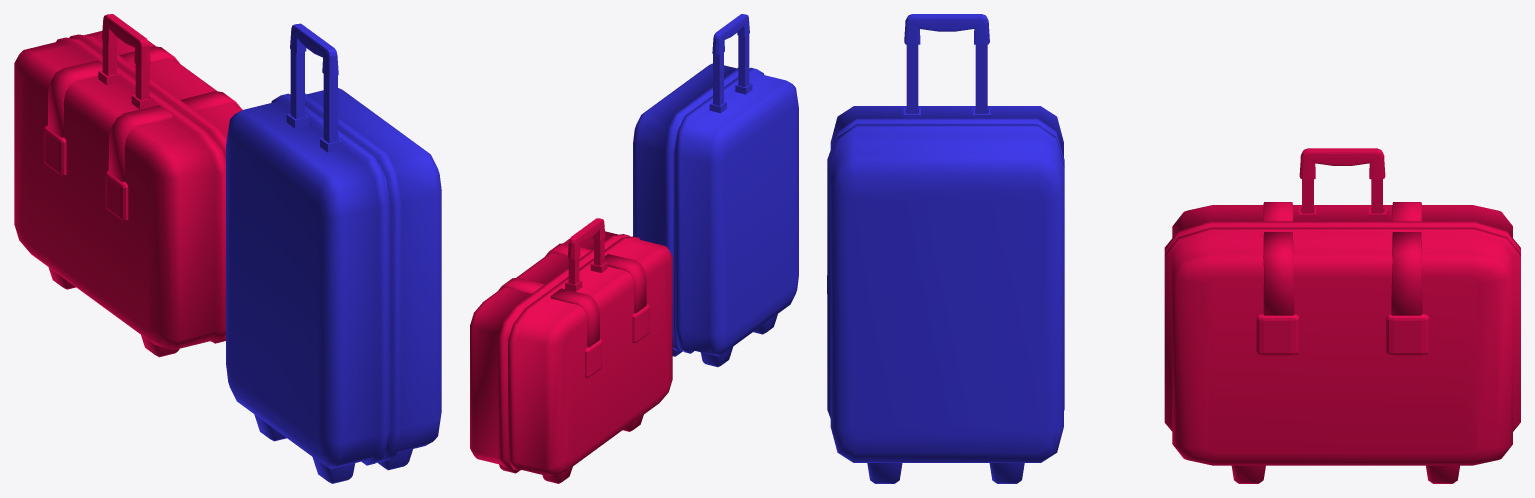
File: Maleta.fbx
The picture shows the model from 3 angles, left to right: view 1: azimuth 30°, elevation 25°; view 2: azimuth 150°, elevation 25°; view 3: azimuth 270°, elevation 25°; orthographic projection. The views are drawn at different scales.
Visible parts, largest first — view 1: BaseV, BaseH, DecoracionH, ManijaV, BotonesH, PatasV, AsaH, AsaV, ManijaH, PatasH, SalidaManijaV, SalidaManijaH; view 2: BaseV, BaseH, DecoracionH, ManijaV, BotonesH, AsaH, AsaV, PatasV, ManijaH, PatasH; view 3: BaseV, BaseH, DecoracionH, BotonesH, AsaH, AsaV, ManijaV, PatasV, PatasH, ManijaH.
Boxes of the visible parts, box(x1,y1,x2,y2) form: BaseV: box(226, 88, 441, 468); BaseH: box(14, 31, 242, 349); DecoracionH: box(48, 46, 241, 181); ManijaV: box(290, 50, 337, 143); BotonesH: box(43, 125, 128, 221); PatasV: box(254, 414, 412, 483); AsaH: box(102, 14, 150, 67); AsaV: box(290, 23, 338, 77); ManijaH: box(102, 40, 149, 100); PatasH: box(48, 267, 225, 357); SalidaManijaV: box(286, 113, 342, 152); SalidaManijaH: box(98, 70, 153, 109); BaseV: box(633, 63, 798, 356); BaseH: box(470, 231, 672, 476); DecoracionH: box(498, 243, 646, 347); ManijaV: box(713, 34, 749, 105); BotonesH: box(585, 304, 649, 377); AsaH: box(567, 218, 605, 259); AsaV: box(712, 14, 749, 55); PatasV: box(672, 314, 777, 367); ManijaH: box(568, 238, 604, 284); PatasH: box(499, 415, 643, 483); BaseV: box(827, 106, 1064, 462); BaseH: box(1164, 205, 1520, 465); DecoracionH: box(1263, 202, 1422, 315); BotonesH: box(1256, 314, 1429, 355); AsaH: box(1299, 148, 1385, 179); AsaV: box(904, 14, 989, 44); ManijaV: box(906, 44, 987, 113); PatasV: box(867, 463, 1024, 483); PatasH: box(1231, 465, 1459, 483); ManijaH: box(1302, 179, 1382, 213).
Size of the model in its own units: 64.55 by 204 by 292.
